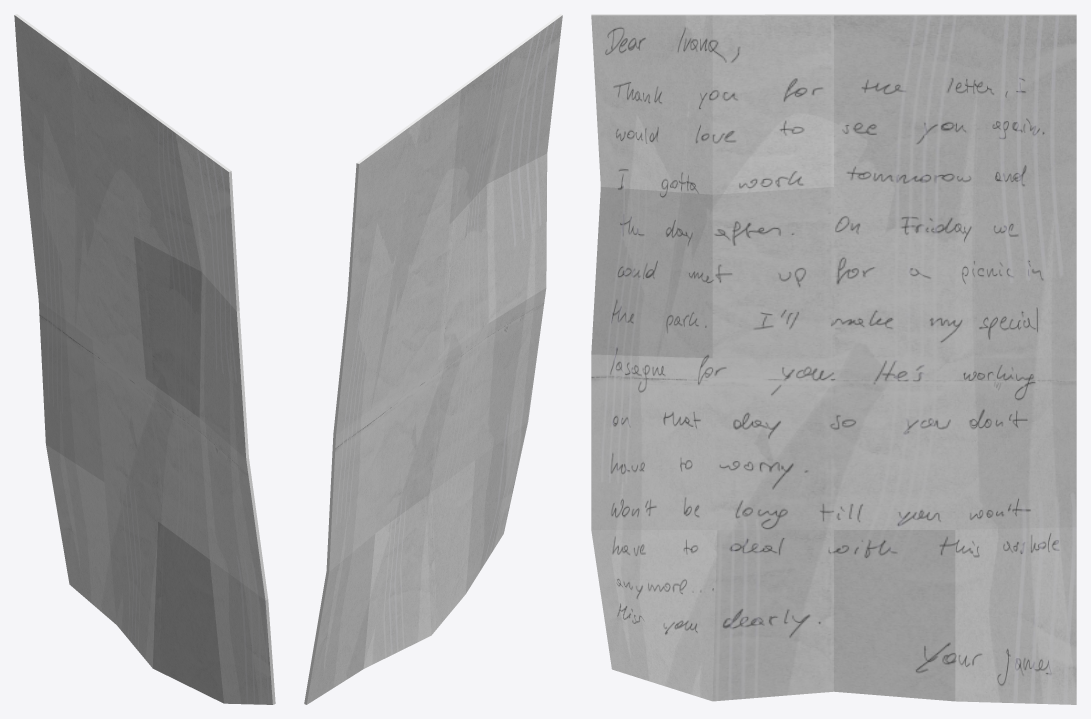
The model's file is Letter.fbx.
The picture shows the model from 3 angles, left to right: view 1: azimuth 30°, elevation 25°; view 2: azimuth 150°, elevation 25°; view 3: azimuth 270°, elevation 25°; orthographic projection. The views are drawn at different scales.
Visible parts, largest first — view 1: Plane.002; view 2: Plane.002; view 3: Plane.002.
Part boxes in pixels (x1,y1,x2,y2): Plane.002: (14, 14, 275, 704); Plane.002: (304, 14, 562, 704); Plane.002: (591, 14, 1076, 704).
Size of the model in its own units: 20.71 by 199 by 133.
Materials: 1 (1 with a texture image).
